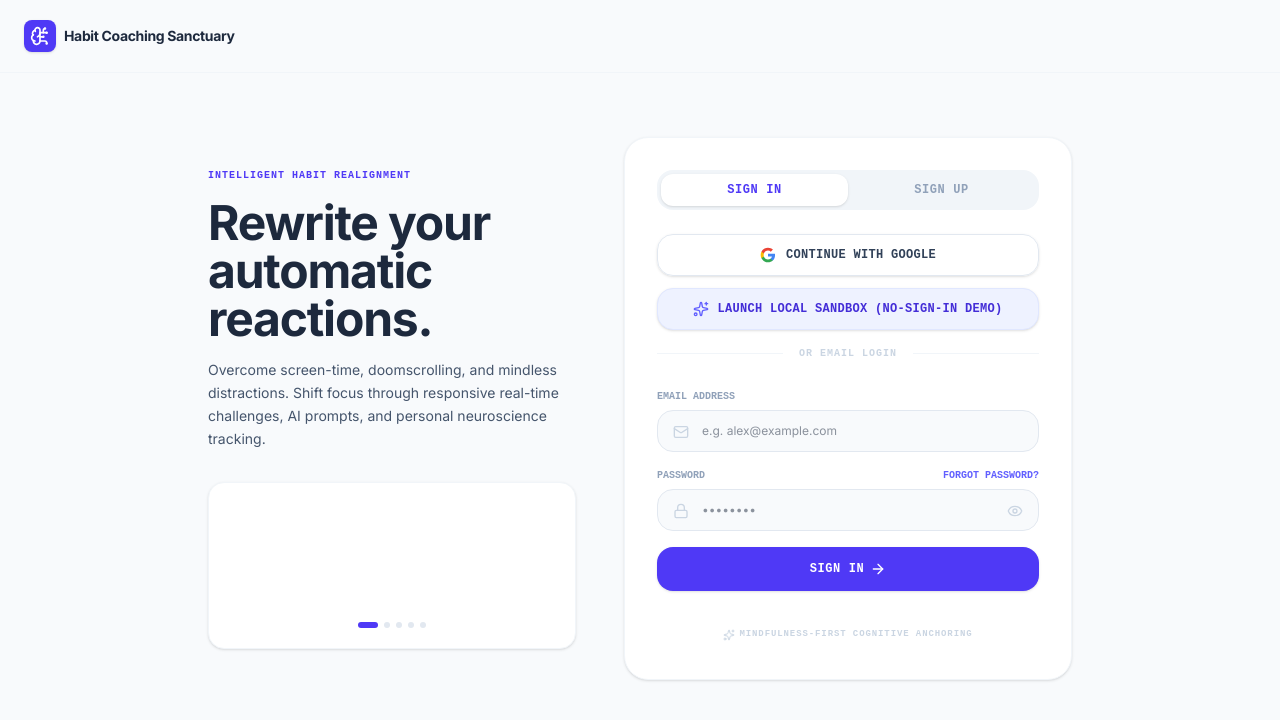
Test: AuthScreen Component Tests › displays custom friendly message if email/password login credentials fail
Type "missing@example.com" into the field labelled "EMAIL ADDRESS" at {"x": 848, "y": 431}, box [657, 410, 1039, 452]
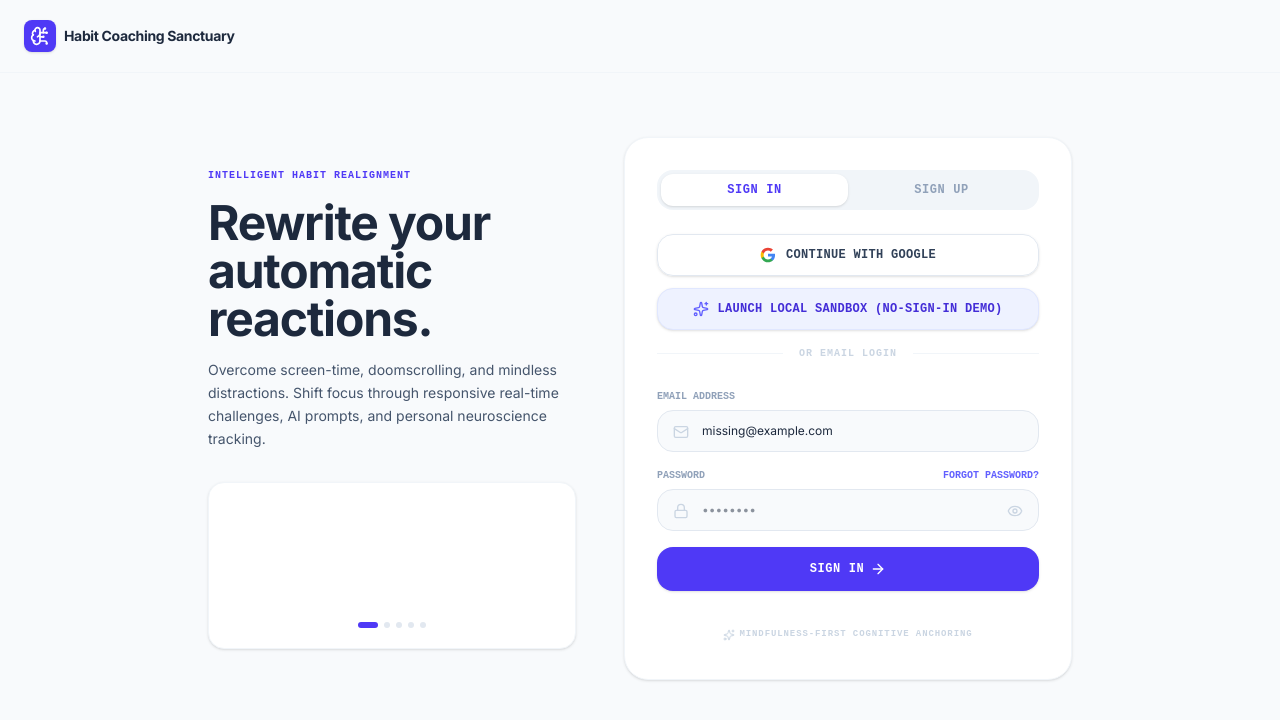
Type "password123" into the password field labelled "PASSWORD" at {"x": 848, "y": 510}, box [657, 489, 1039, 531]
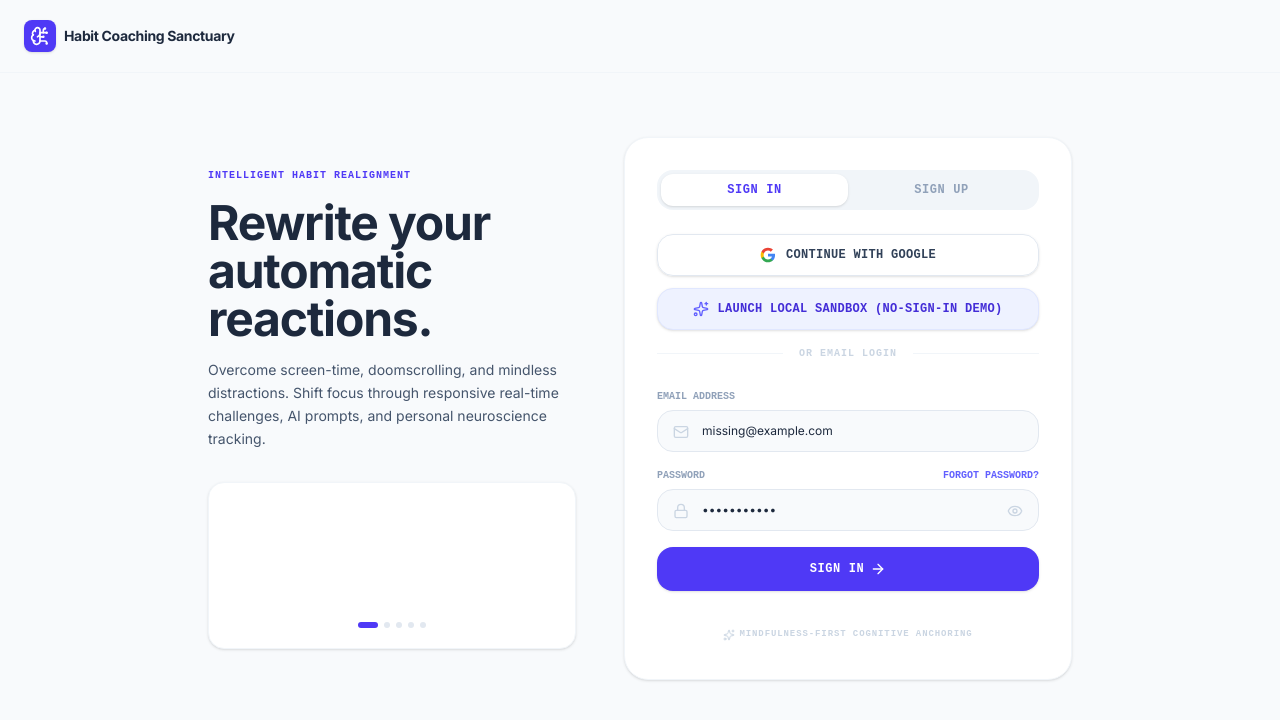
Click the button "Sign In" at {"x": 848, "y": 569}, box [657, 547, 1039, 591]
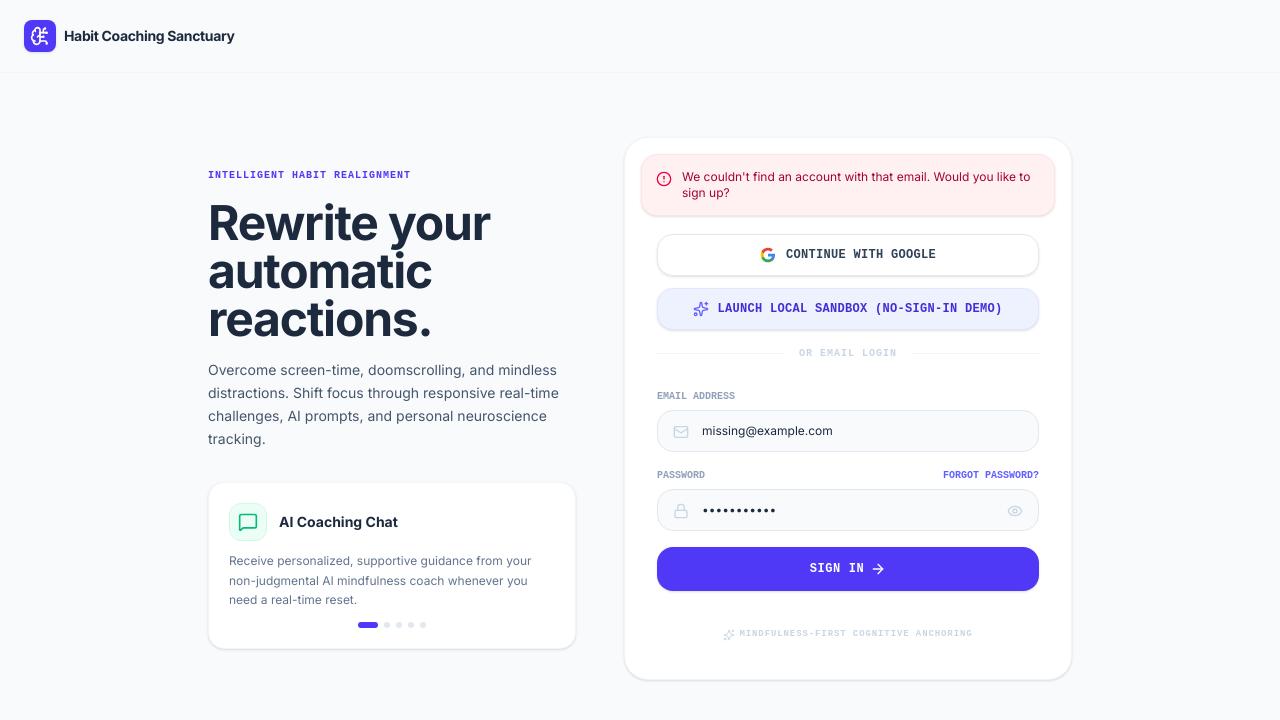
expect the text "We couldn't find an account with that email. Would you like to sign up?" is shown: met, box [682, 169, 1040, 201]
